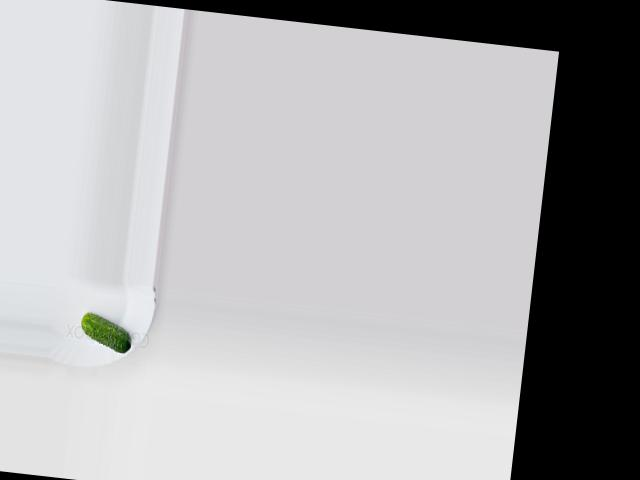cucumber: (78, 311, 133, 353)
